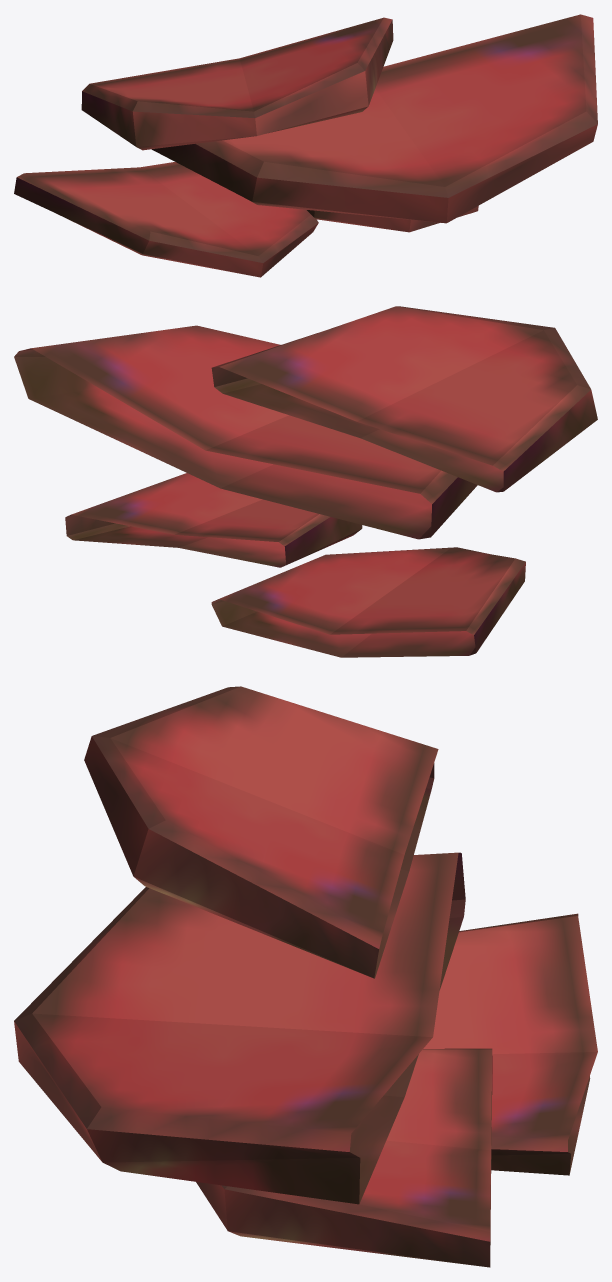
The model's file is fungus_cluster.fbx.
The picture shows the model from 3 angles, top to bottom: view 1: azimuth 30°, elevation 25°; view 2: azimuth 150°, elevation 25°; view 3: azimuth 270°, elevation 25°; orthographic projection. The views are drawn at different scales.
Parts seen in each view (by area): view 1: fungus_cluster; view 2: fungus_cluster; view 3: fungus_cluster.
Part boxes in pixels (x1,y1,x2,y2): fungus_cluster: [14, 14, 597, 277]; fungus_cluster: [14, 306, 597, 657]; fungus_cluster: [14, 686, 597, 1267].
Size of the model in its own units: 0.9572 by 0.3929 by 0.6191.
1 material, 1 textured.
